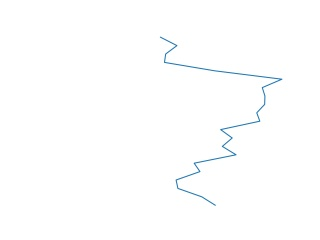floodPlain: (158, 36, 285, 207)
